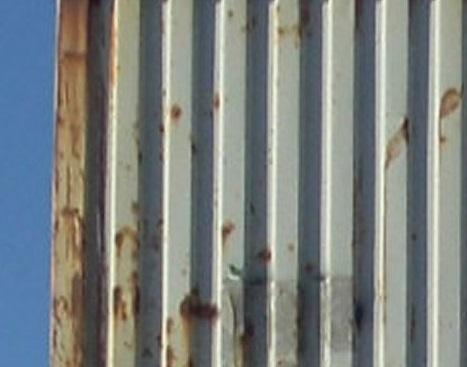container_no_door: (56, 5, 465, 363)
